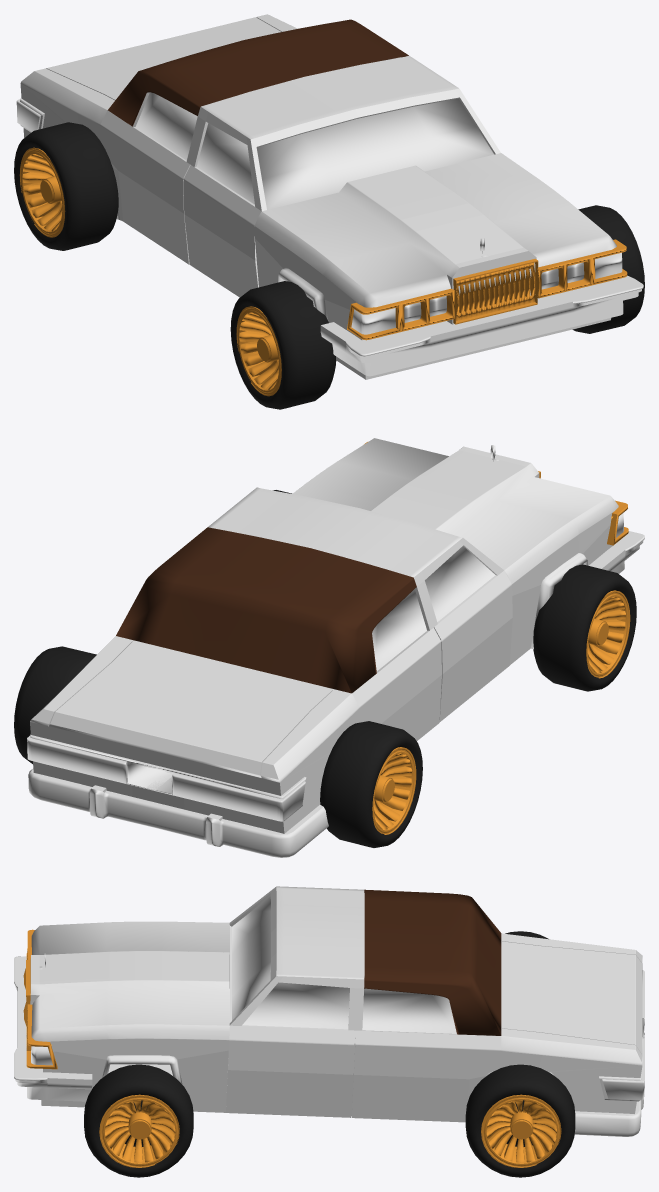
Rendered from grand_marcus.fbx.
3 renders of one model, top to bottom at view 1: azimuth 30°, elevation 25°; view 2: azimuth 150°, elevation 25°; view 3: azimuth 270°, elevation 25°, orthographic. The views are drawn at different scales.
Visible parts, largest first — view 1: Drive_Train.001, Wheel_1.002, Wheel_1, Wheel_1.003; view 2: Drive_Train.001, Wheel_1.002, Wheel_1, Wheel_1.004; view 3: Drive_Train.001, Wheel_1.004, Wheel_1.003.
Part boxes in pixels (left/top/right/bottom): Drive_Train.001: left=16, top=14, right=643, bottom=379; Wheel_1.002: left=14, top=122, right=118, bottom=250; Wheel_1: left=230, top=281, right=336, bottom=409; Wheel_1.003: left=572, top=205, right=644, bottom=333; Drive_Train.001: left=27, top=438, right=644, bottom=857; Wheel_1.002: left=320, top=721, right=422, bottom=847; Wheel_1: left=533, top=564, right=636, bottom=691; Wheel_1.004: left=14, top=646, right=96, bottom=763; Drive_Train.001: left=14, top=886, right=644, bottom=1136; Wheel_1.004: left=465, top=1064, right=575, bottom=1177; Wheel_1.003: left=84, top=1064, right=193, bottom=1177.
Bounding box in the file's own units: 354 × 185 × 607.
